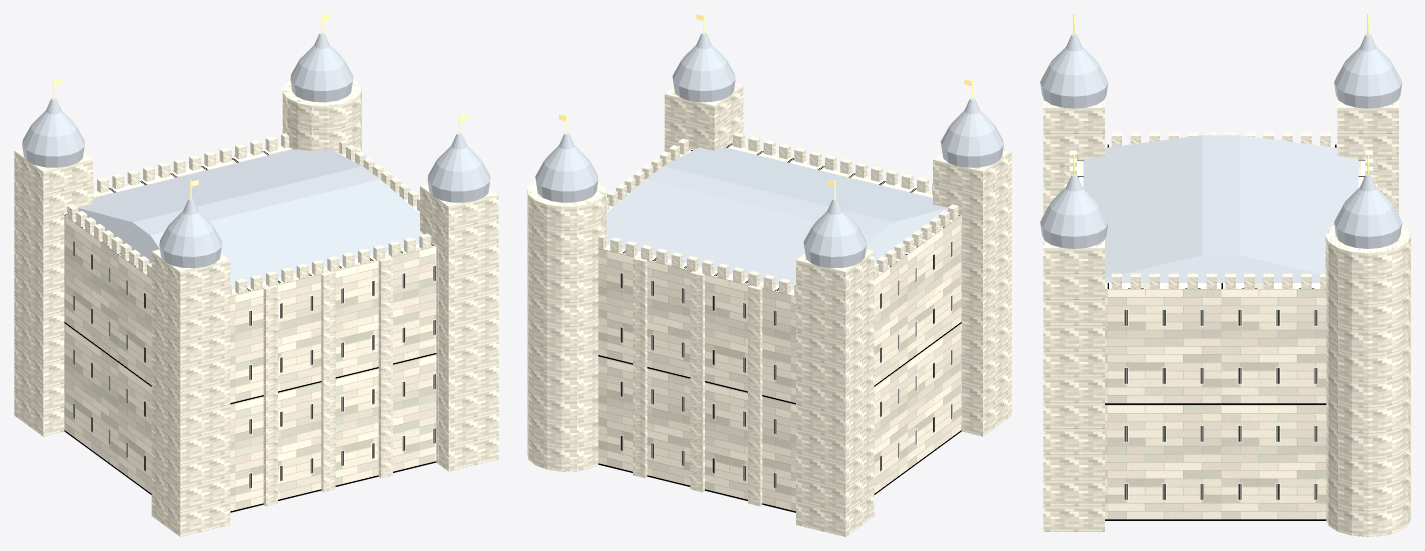
Rendered from white_tower.glb.
3 renders of one model, left to right at view 1: azimuth 30°, elevation 25°; view 2: azimuth 150°, elevation 25°; view 3: azimuth 270°, elevation 25°, orthographic. The views are drawn at different scales.
Visible parts, largest first — view 1: ButtressS, Keep, Cupola; view 2: ButtressS, Keep, Cupola; view 3: ButtressS, Keep, Cupola.
Boxes of the visible parts, <box> form: ButtressS: <box>14,79,498,536</box>; Keep: <box>64,146,436,512</box>; Cupola: <box>22,32,490,289</box>; ButtressS: <box>527,83,1011,536</box>; Keep: <box>598,142,961,512</box>; Cupola: <box>535,32,1003,289</box>; ButtressS: <box>1043,98,1410,536</box>; Keep: <box>1077,144,1365,520</box>; Cupola: <box>1040,34,1402,282</box>.
Bounding box in the file's own units: 43.1 × 42.4 × 39.1.
Materials: 4 (2 with a texture image).
